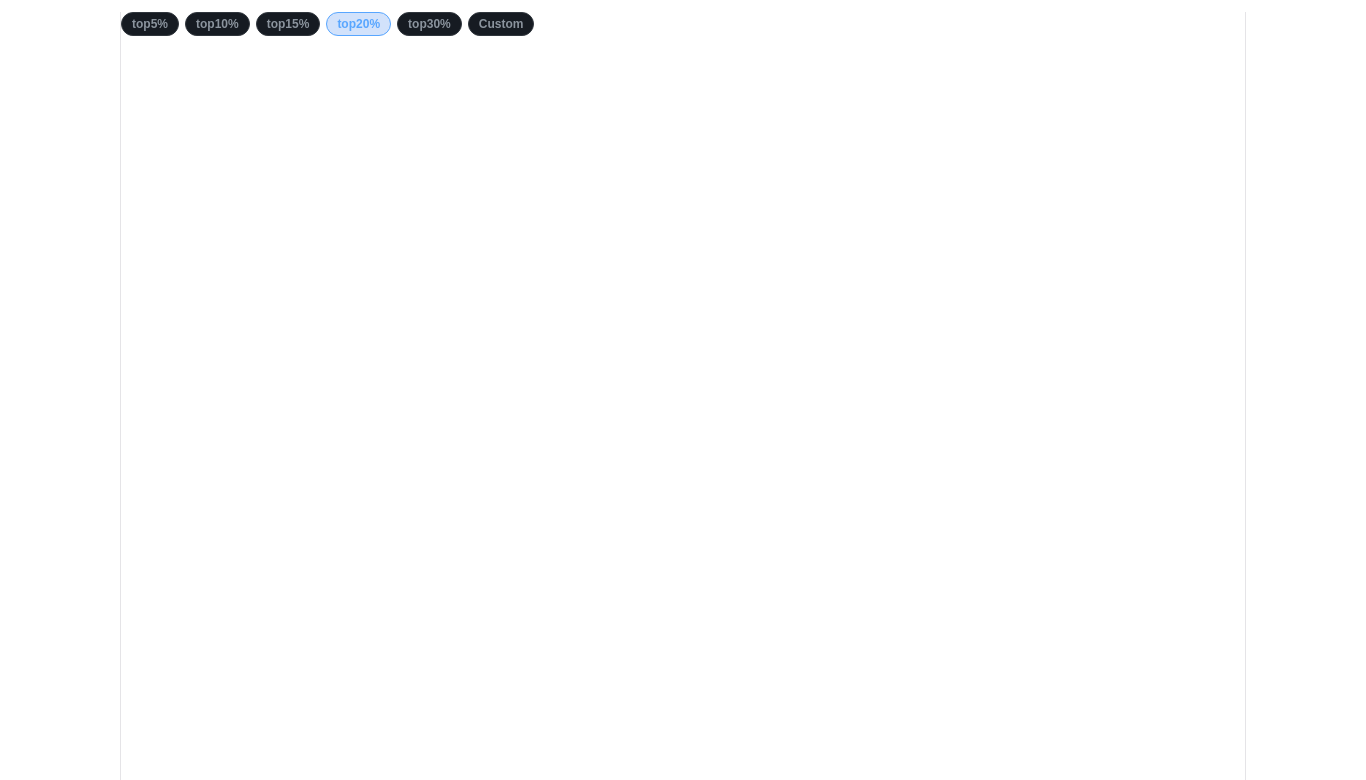
RangeSelector › shows custom input when Custom selected
The image size is (1366, 780).
Click the button with test id "range-preset-Custom": [501, 24] box [468, 12, 534, 36]
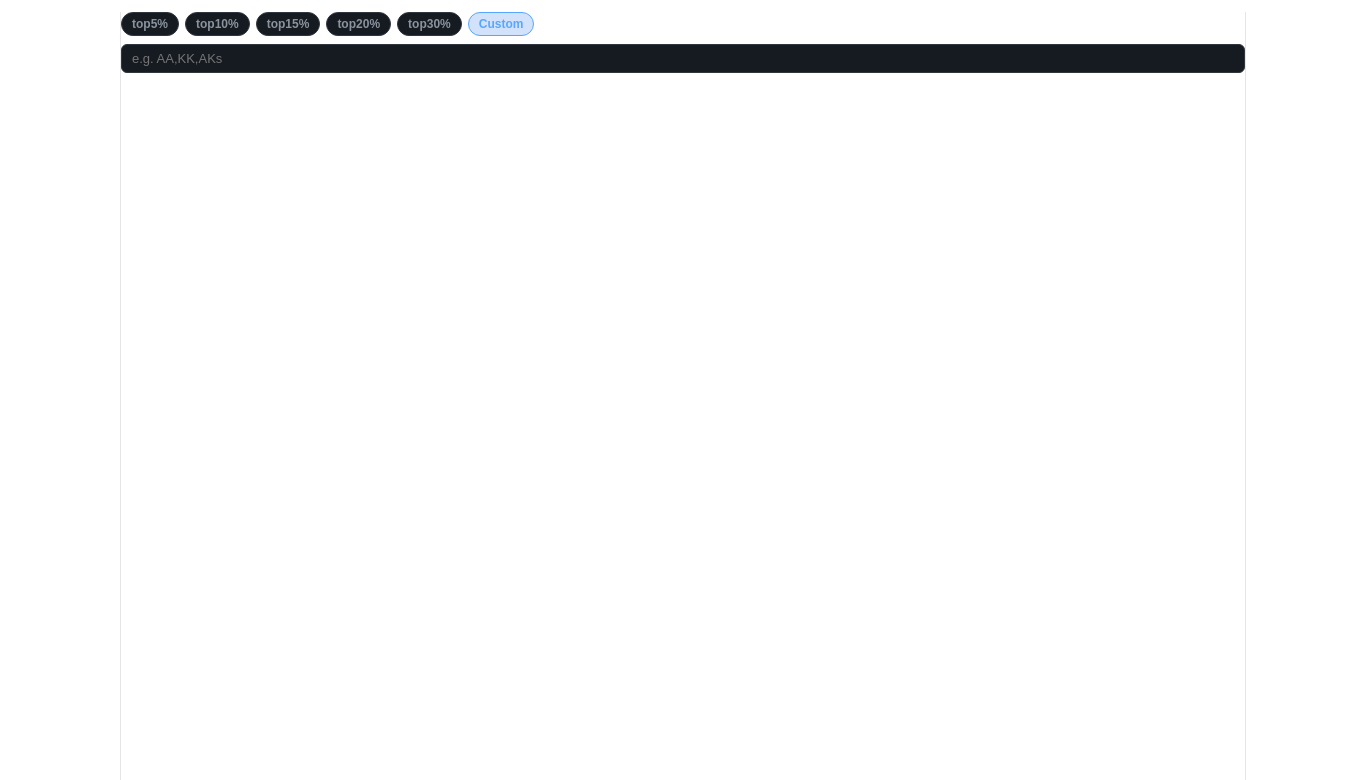
Check: the field with test id "range-custom-input" is shown, box [121, 44, 1245, 73]
